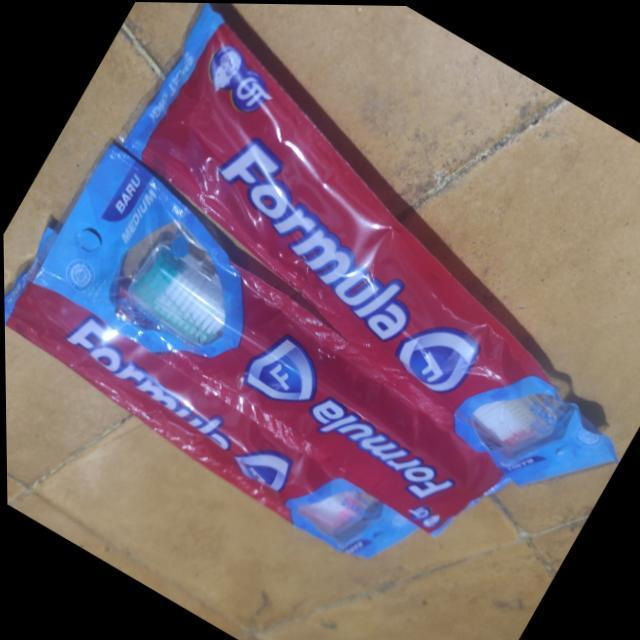toothbrush: (179, 92, 556, 450), (112, 220, 462, 507), (53, 300, 360, 545)
